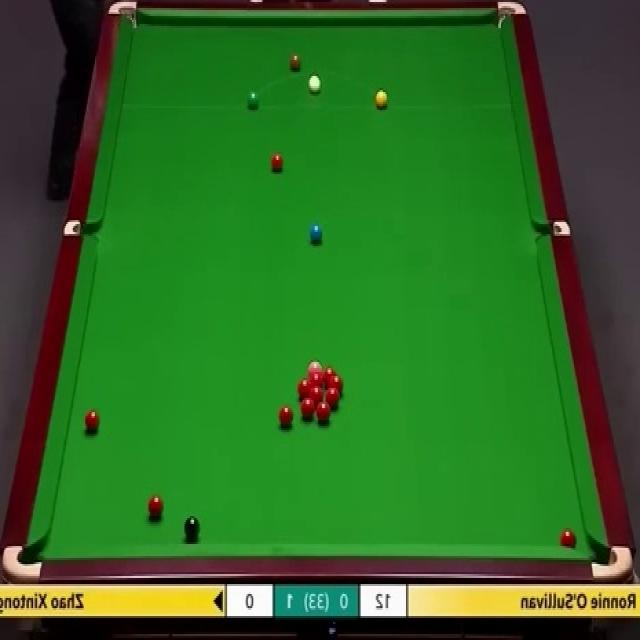black-ball: (183, 516, 200, 542)
blue-ball: (309, 222, 324, 245)
brown-ball: (289, 54, 302, 74)
green-ball: (245, 91, 261, 112)
pink-ball: (308, 361, 322, 372)
red-ball: (146, 495, 164, 520), (269, 151, 285, 174), (84, 411, 100, 434), (301, 398, 316, 421), (278, 407, 293, 428), (560, 528, 575, 548), (316, 402, 329, 423), (326, 388, 339, 409), (327, 375, 343, 392), (322, 369, 336, 387), (298, 379, 311, 398), (312, 371, 324, 387), (309, 387, 322, 401)
white-ball: (308, 74, 321, 94)
yellow-ball: (375, 90, 388, 110)
